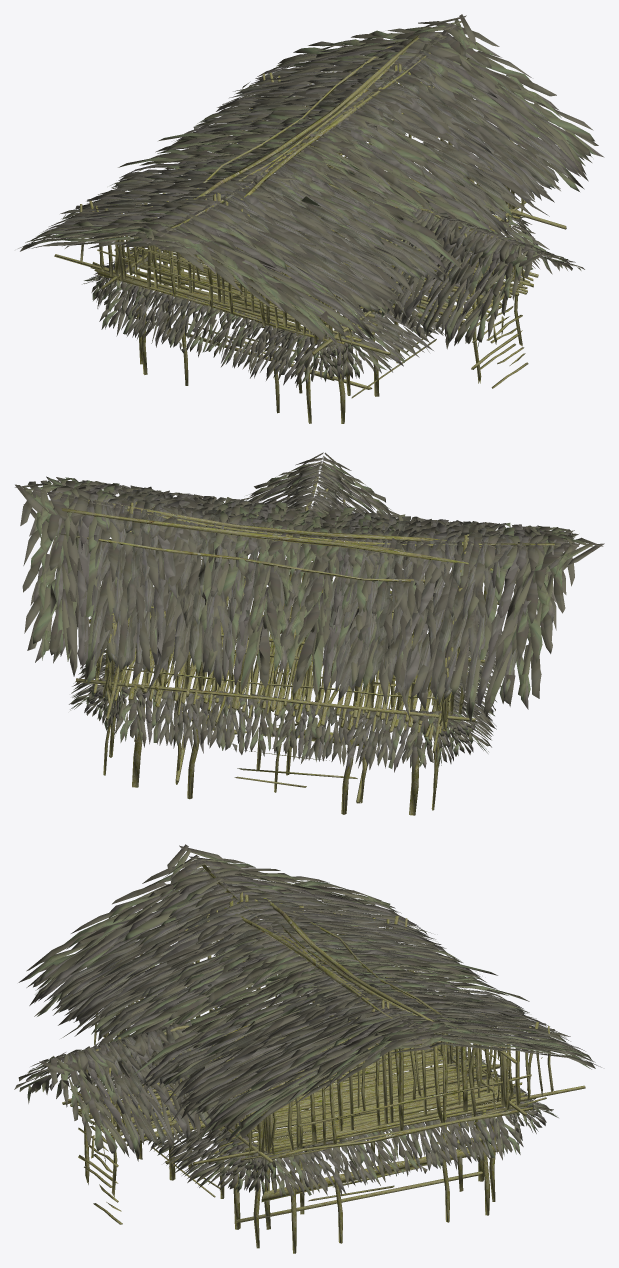
The model's file is Choza_Baja.glb.
3 views of the same model, one above another, from view 1: azimuth 30°, elevation 25°; view 2: azimuth 150°, elevation 25°; view 3: azimuth 270°, elevation 25° (orthographic). The views are drawn at different scales.
Parts seen in each view (by area): view 1: prim0, prim1; view 2: prim0, prim1; view 3: prim0, prim1.
Boxes of the visible parts, x1,y1,x2,y2 form: prim0: [18, 14, 604, 387]; prim1: [54, 35, 566, 423]; prim0: [15, 452, 604, 772]; prim1: [59, 476, 554, 815]; prim0: [14, 844, 601, 1199]; prim1: [58, 864, 585, 1253].
Size of the model in its own units: 32.81 by 14.94 by 30.81.
Materials: 2 (2 with a texture image).
